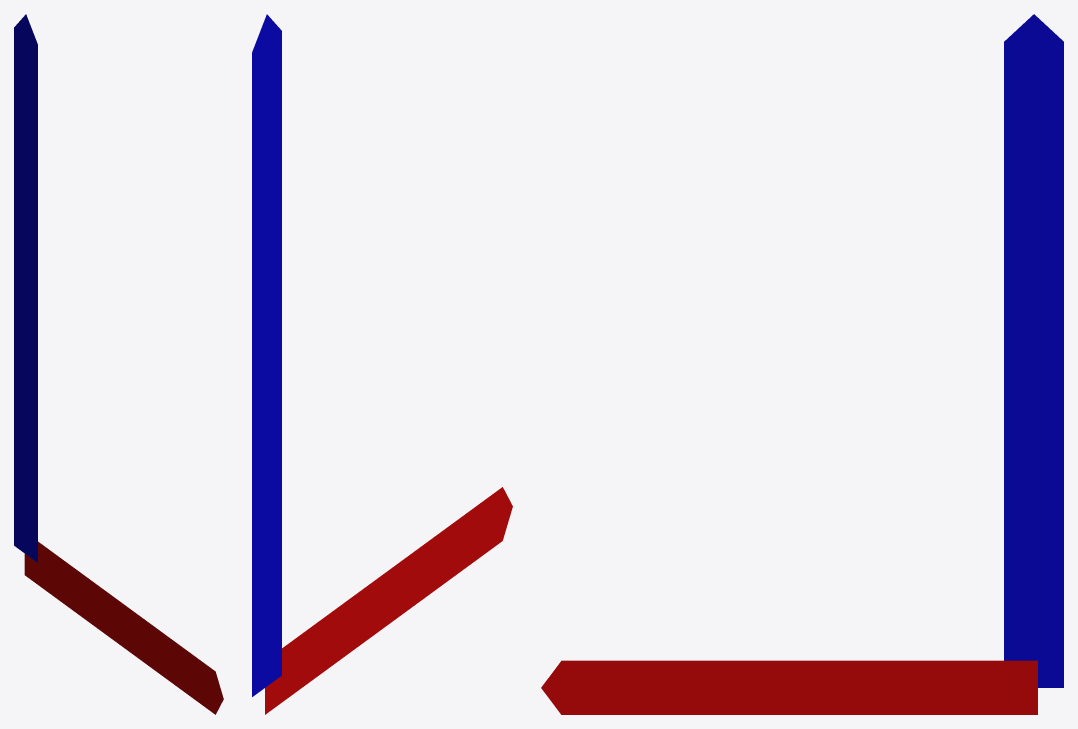
File: WatchArms.fbx
3 views of the same model, side by side, from view 1: azimuth 30°, elevation 25°; view 2: azimuth 150°, elevation 25°; view 3: azimuth 270°, elevation 25° (orthographic). The views are drawn at different scales.
Visible parts, largest first — view 1: Long_WatchHand1, Short_watchHand; view 2: Long_WatchHand1, Short_watchHand; view 3: Long_WatchHand1, Short_watchHand.
Part boxes in pixels (bbox=[...]): Long_WatchHand1: bbox=[14, 14, 37, 562]; Short_watchHand: bbox=[24, 541, 223, 714]; Long_WatchHand1: bbox=[252, 14, 281, 696]; Short_watchHand: bbox=[265, 487, 512, 714]; Long_WatchHand1: bbox=[1004, 14, 1063, 687]; Short_watchHand: bbox=[541, 660, 1037, 714].
Size of the model in its own units: 1.05e-05 by 2.54 by 1.71.
